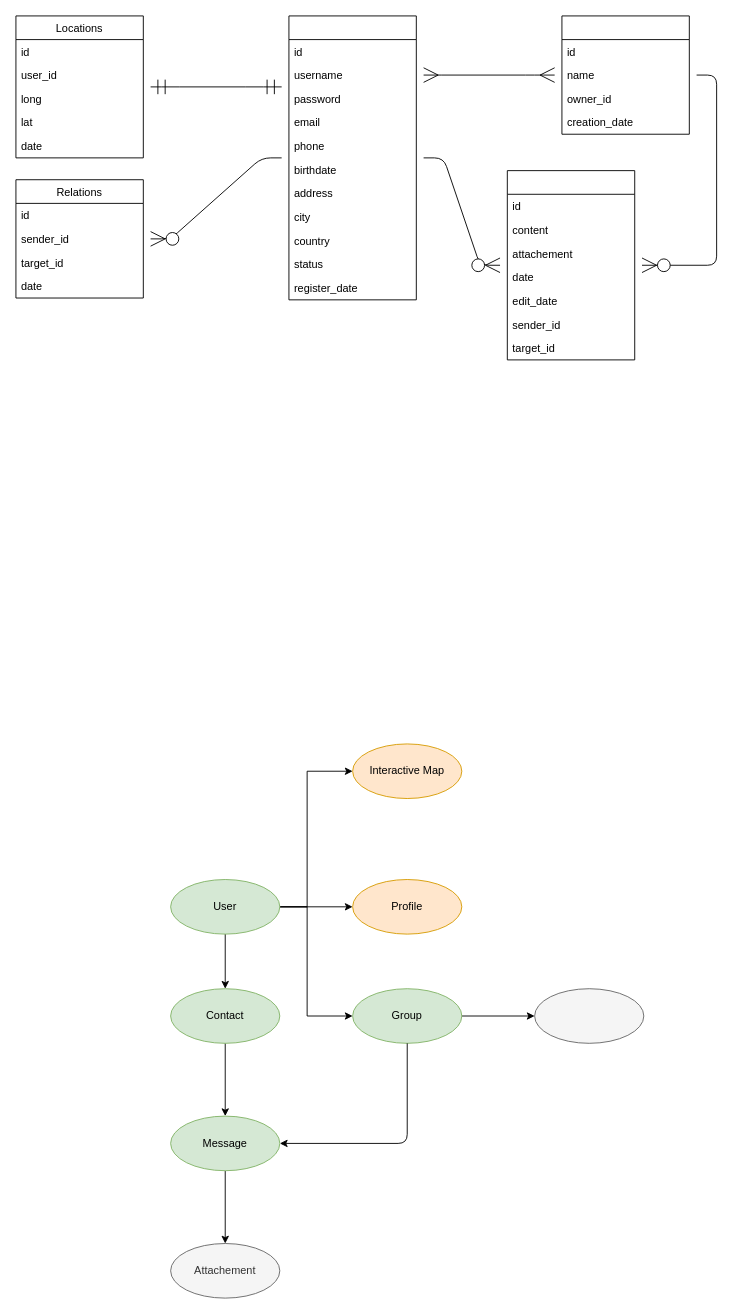
The diagram is 747 pixels wide and 1314 high, and some of its shapes have lost their labels. Here are the shapes that lost their labels. From the top down, the box of each, then its label:
(561, 15, 689, 134): Groups
(288, 15, 416, 300): Users
(506, 170, 635, 360): Messages
(534, 988, 644, 1043): Board
